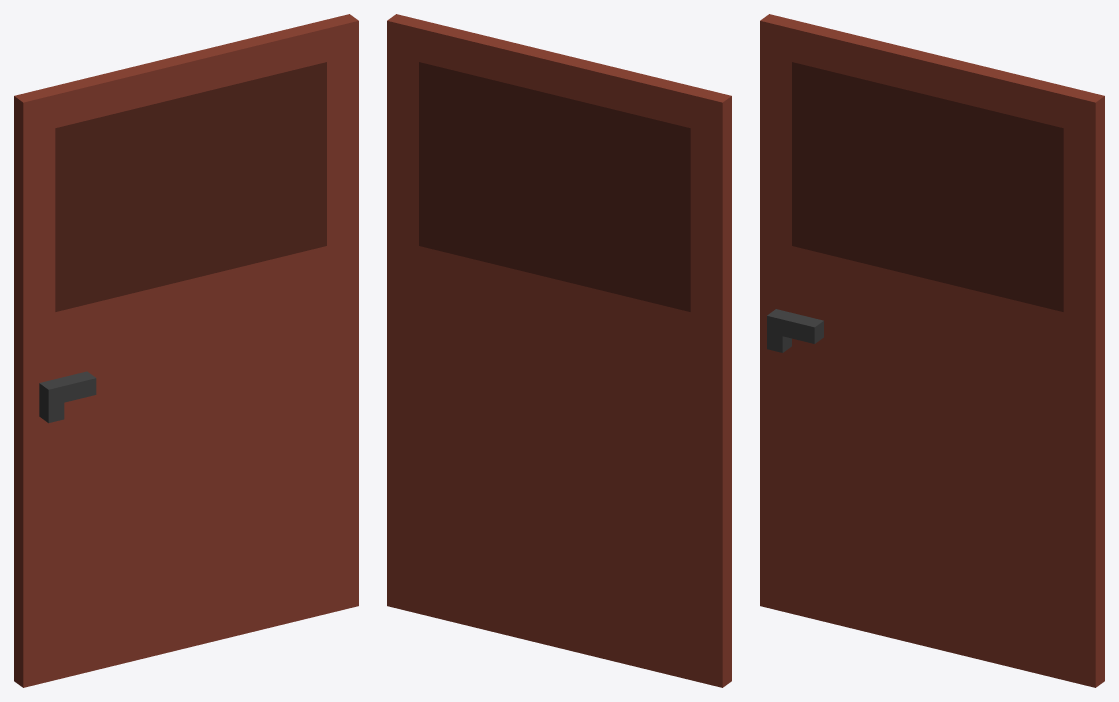
Rendered from ConstructionMaterials-3.gltf.
3 views of the same model, side by side, from view 1: azimuth 30°, elevation 25°; view 2: azimuth 150°, elevation 25°; view 3: azimuth 330°, elevation 25° (orthographic).
Parts seen in each view (by area): view 1: Node; view 2: Node; view 3: Node.
Part boxes in pixels (bbox=[...]): Node: bbox=[14, 14, 358, 687]; Node: bbox=[387, 14, 731, 687]; Node: bbox=[760, 14, 1104, 687].
Bounding box in the file's own units: 2.1 × 3.5 × 0.2.
1 material, 1 textured.
